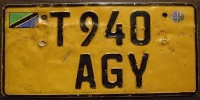T: (48, 10, 74, 49)
